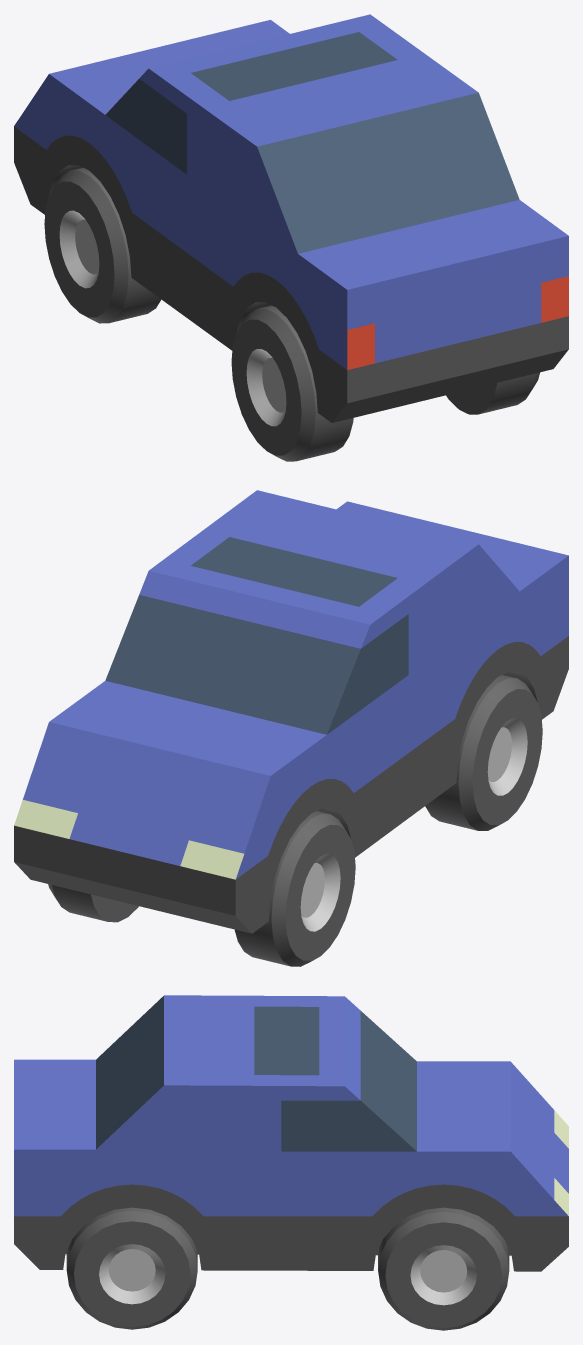
File: carLuxury.obj
The picture shows the model from 3 angles, top to bottom: view 1: azimuth 30°, elevation 25°; view 2: azimuth 150°, elevation 25°; view 3: azimuth 270°, elevation 25°; orthographic projection. The views are drawn at different scales.
Visible parts, largest first — view 1: body 5, wheelBackLeft 5, wheelFrontLeft 5, wheelBackRight 5; view 2: body 5, wheelFrontLeft 5, wheelBackLeft 5, wheelFrontRight 5; view 3: body 5, wheelFrontRight 5, wheelBackRight 5.
Part boxes in pixels (x1=…): body 5: x1=14, y1=14, x2=568, y2=422; wheelBackLeft 5: x1=231, y1=305, x2=353, y2=461; wheelFrontLeft 5: x1=44, y1=167, x2=161, y2=323; wheelBackRight 5: x1=446, y1=372, x2=539, y2=414; body 5: x1=14, y1=490, x2=568, y2=933; wheelFrontLeft 5: x1=234, y1=811, x2=355, y2=966; wheelBackLeft 5: x1=425, y1=675, x2=542, y2=830; wheelFrontRight 5: x1=48, y1=884, x2=138, y2=922; body 5: x1=14, y1=995, x2=568, y2=1271; wheelFrontRight 5: x1=378, y1=1207, x2=509, y2=1330; wheelBackRight 5: x1=66, y1=1207, x2=197, y2=1329.
Size of the model in its own units: 4.95 by 5.8 by 11.85.
